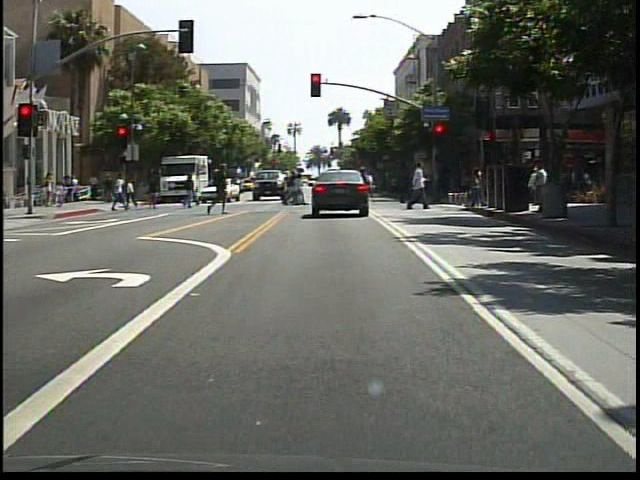person: (207, 163, 233, 219), (404, 159, 431, 211), (324, 168, 345, 214), (179, 172, 200, 213), (112, 172, 131, 217)
